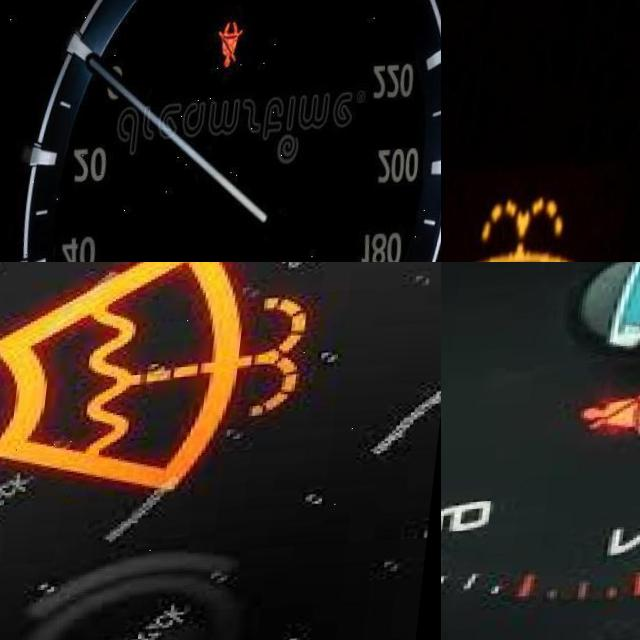Seat Belt: (589, 391, 640, 439), (220, 23, 251, 74)
Washer Fluid: (0, 262, 320, 506), (457, 199, 596, 262)
